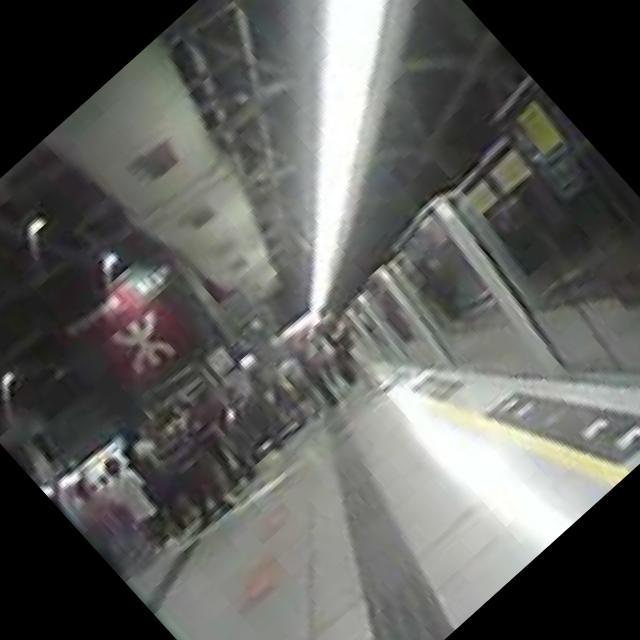person: (131, 406, 248, 528), (88, 449, 188, 555), (61, 468, 161, 574), (114, 429, 212, 534), (170, 397, 256, 488)
